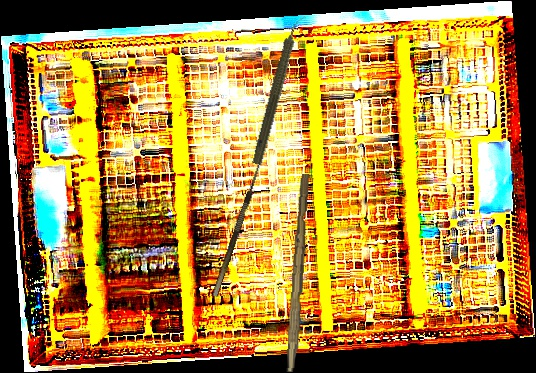Handpiece: (249, 12, 308, 167)
Hook Surgical: (204, 140, 270, 297)
Scalpel Handle: (286, 173, 311, 373)
